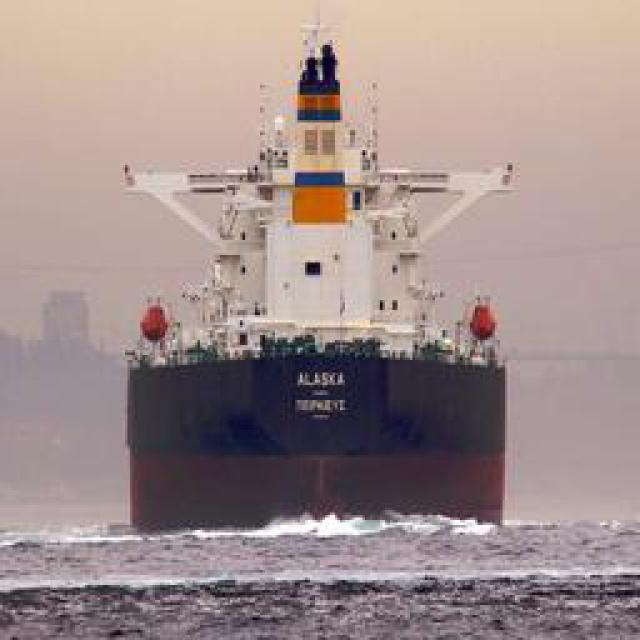Ship: (109, 4, 536, 543)
